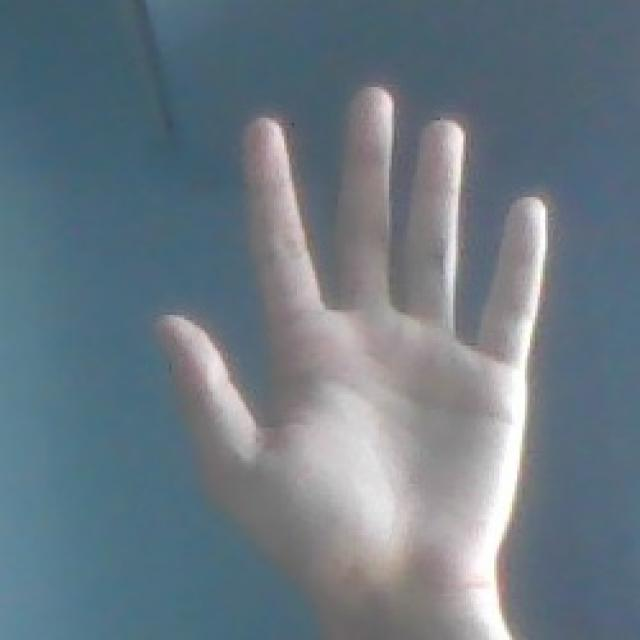Numeric-5: (148, 73, 552, 611)
